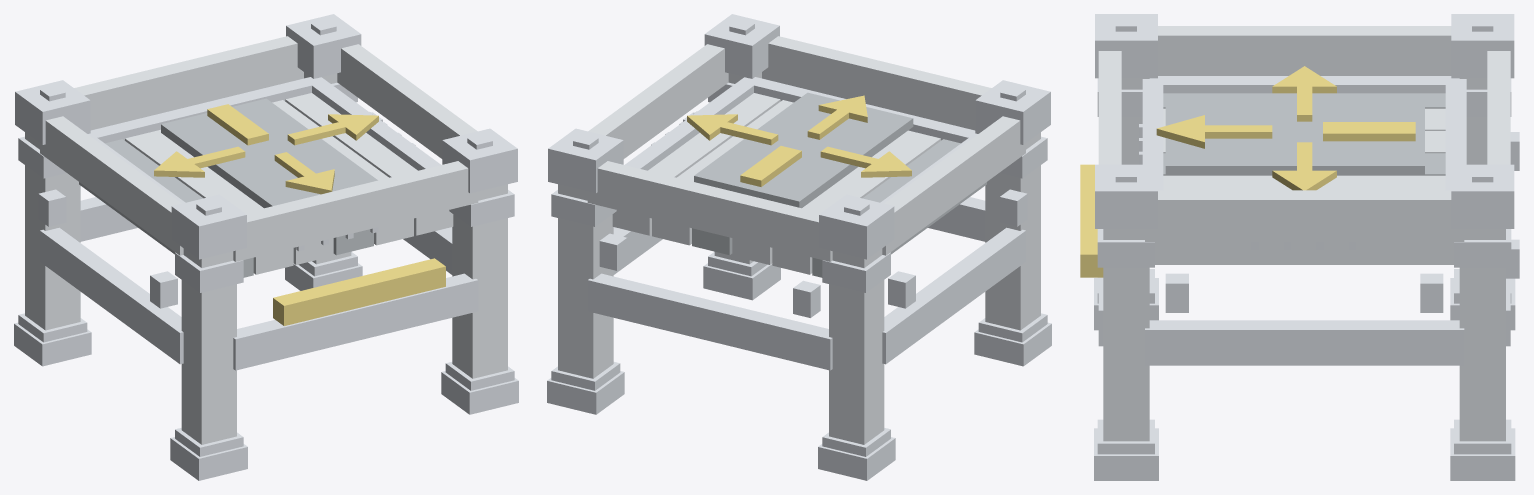
The model's file is belt_distributor.gltf.
The picture shows the model from 3 angles, left to right: view 1: azimuth 30°, elevation 25°; view 2: azimuth 150°, elevation 25°; view 3: azimuth 270°, elevation 25°; orthographic projection. The views are drawn at different scales.
Bounding box in the file's own units: 0.95 × 0.703 × 0.95.
